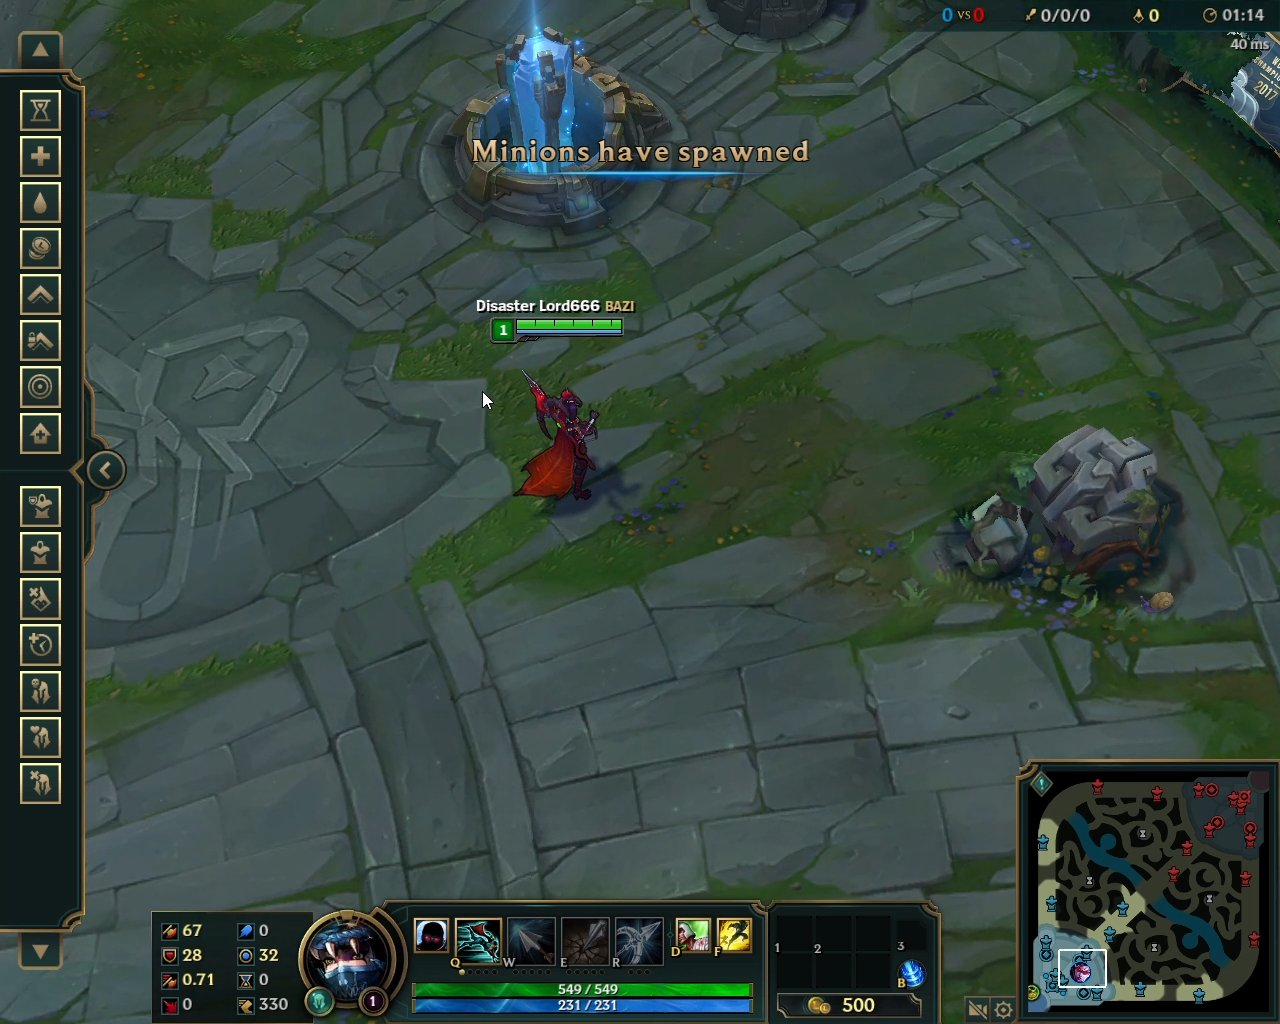Vayne: (505, 358, 615, 517)
